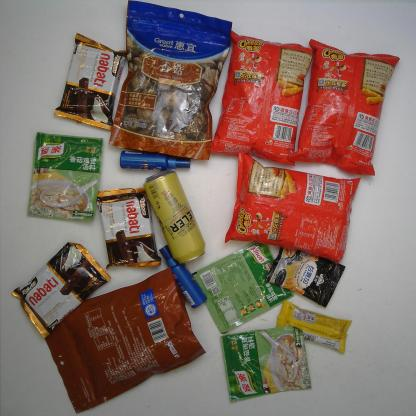Alcohol: (141, 165, 209, 265)
Chocolate: (269, 297, 354, 356)
Dessert: (9, 238, 114, 340), (52, 31, 136, 133), (93, 182, 163, 270)
Dried Food: (40, 264, 208, 414), (106, 1, 234, 161)
Instant Drink: (264, 233, 348, 309)
Personal Hygiene: (156, 243, 209, 310), (115, 146, 193, 172)
Puffed Food: (284, 35, 402, 176), (222, 150, 363, 266), (206, 29, 321, 166)
Seasoner: (191, 230, 298, 336), (219, 322, 318, 408), (25, 131, 105, 224)
